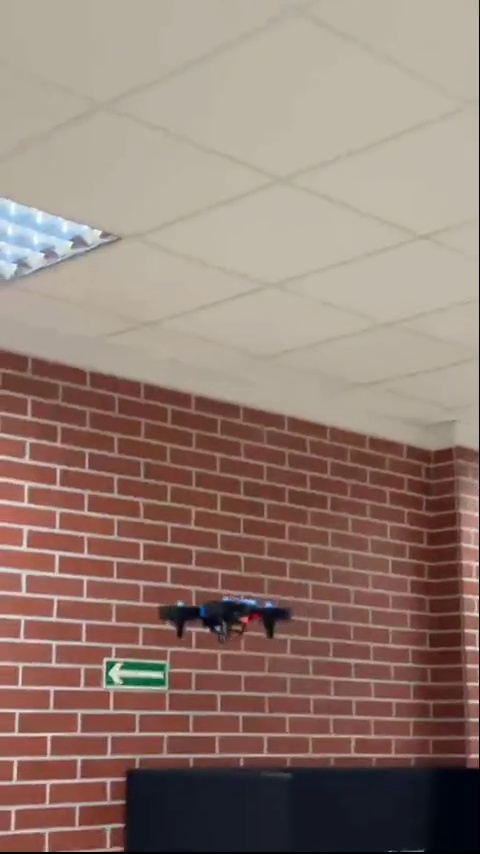drone: (160, 597, 296, 646)
